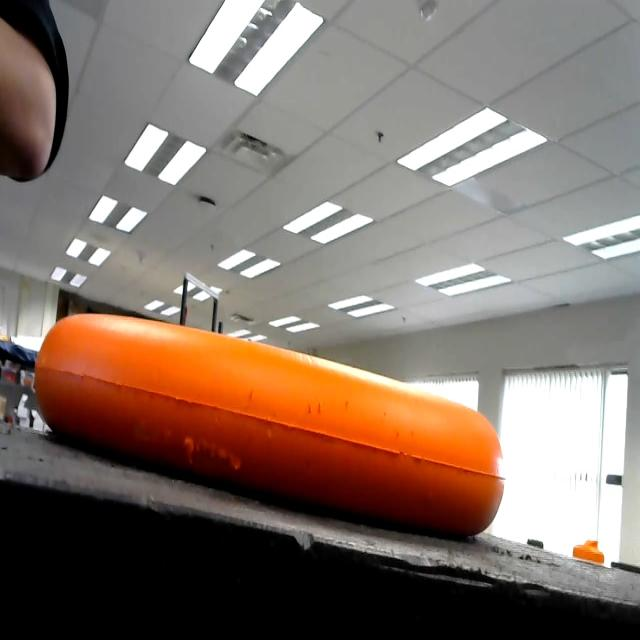note: (34, 298, 523, 560)
